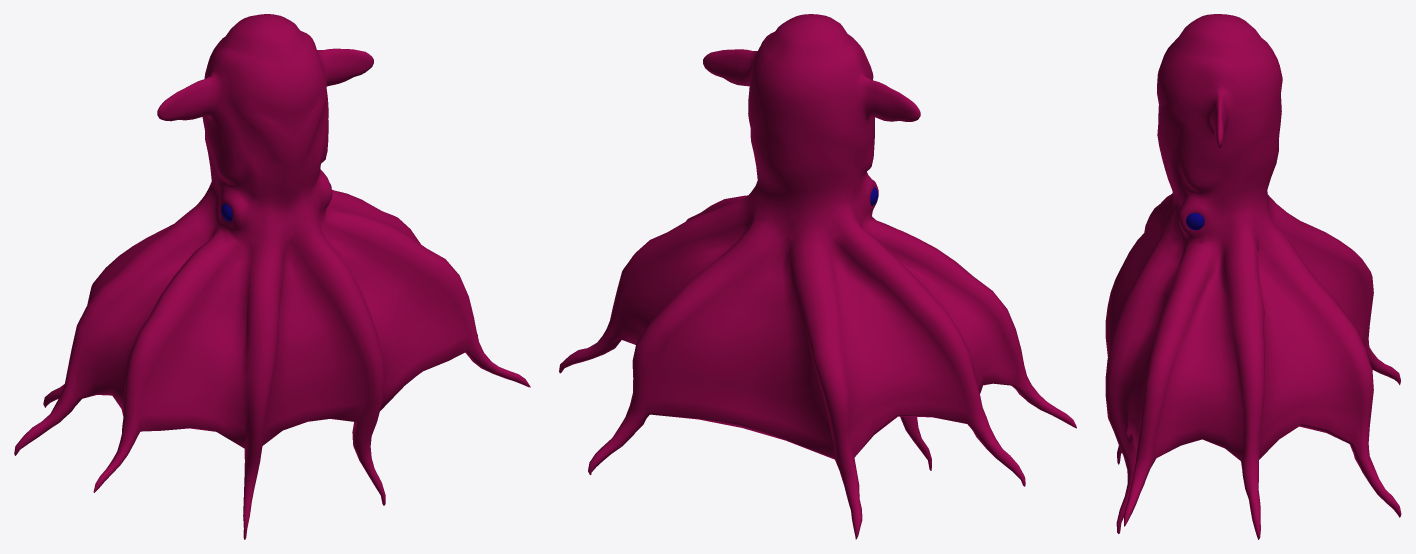
File: squid.gltf
The picture shows the model from 3 angles, left to right: view 1: azimuth 30°, elevation 25°; view 2: azimuth 150°, elevation 25°; view 3: azimuth 270°, elevation 25°; orthographic projection. The views are drawn at different scales.
Parts seen in each view (by area): view 1: squid; view 2: squid; view 3: squid.
Boxes of the visible parts, box(x1,y1,x2,y2) form: squid: box(14, 14, 530, 539); squid: box(559, 14, 1076, 539); squid: box(1105, 14, 1401, 539).
Size of the model in its own units: 9.66 by 9.33 by 5.2.
